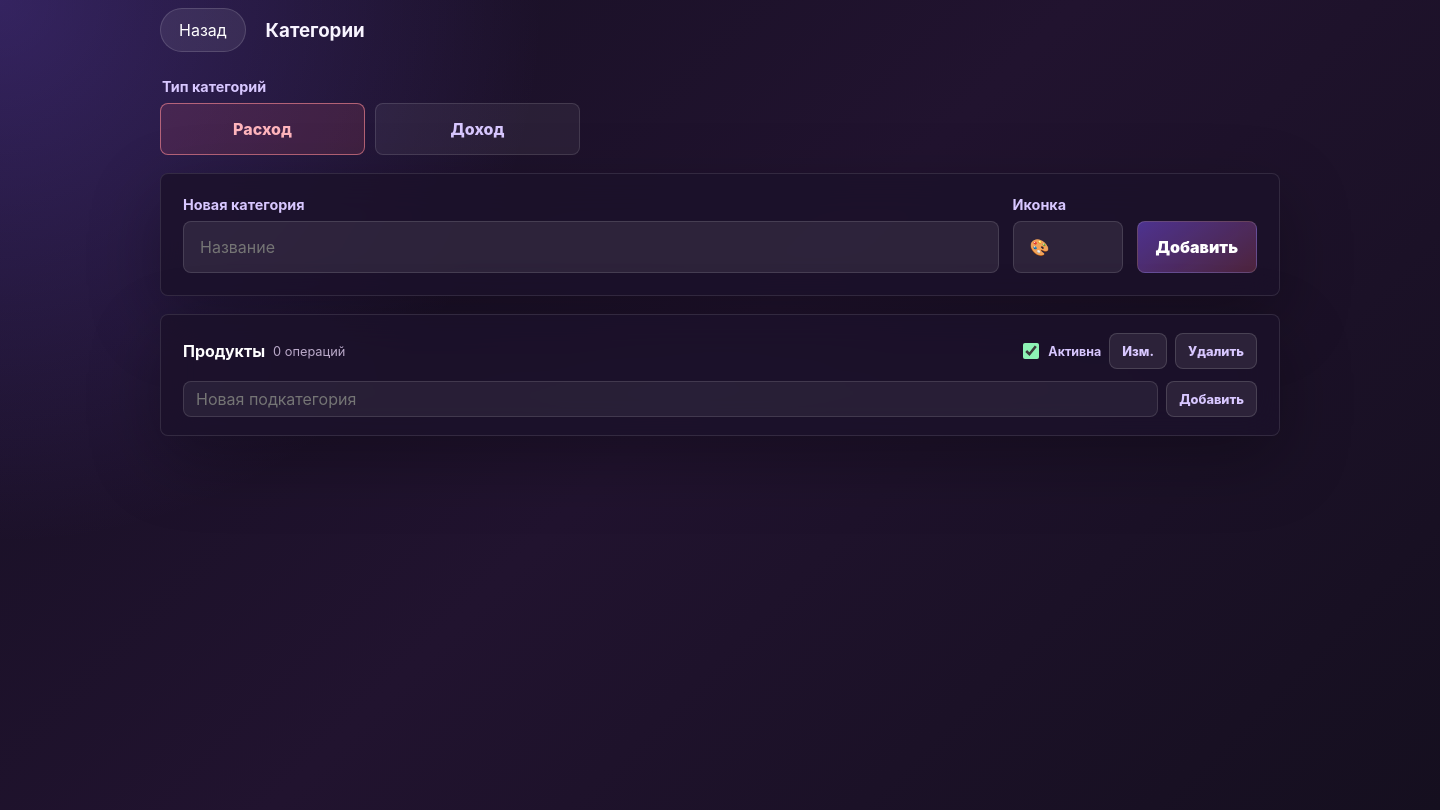
Test: CategoriesPage › adds a new category at the top and marks it for the appear animation
This screenshot has width=1440, height=810.
Step 1. Type "Новая" into the field with placeholder "Название" → (591, 247), box [183, 221, 998, 273]
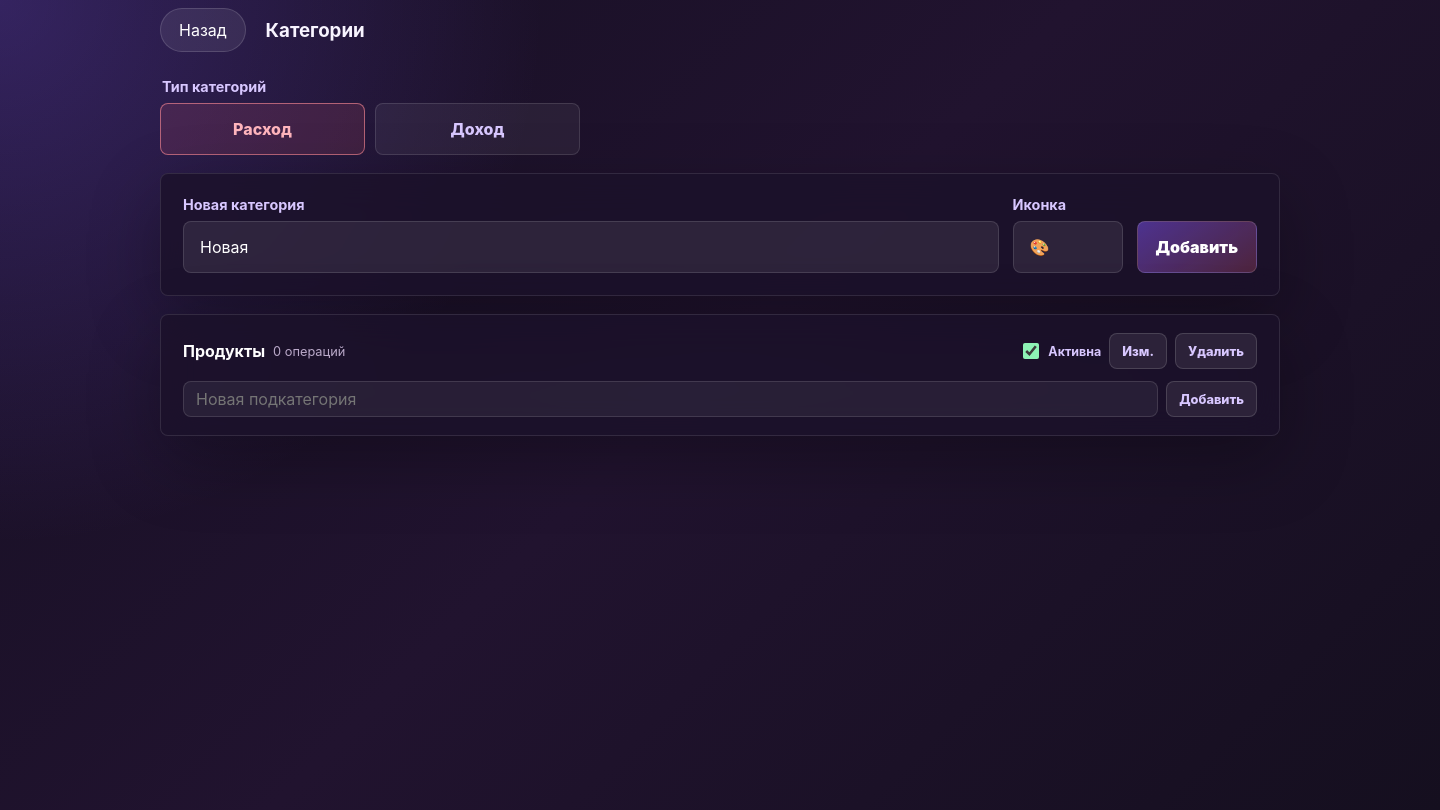
Step 2. Submit the form with class "category-create", box [160, 173, 1280, 296]
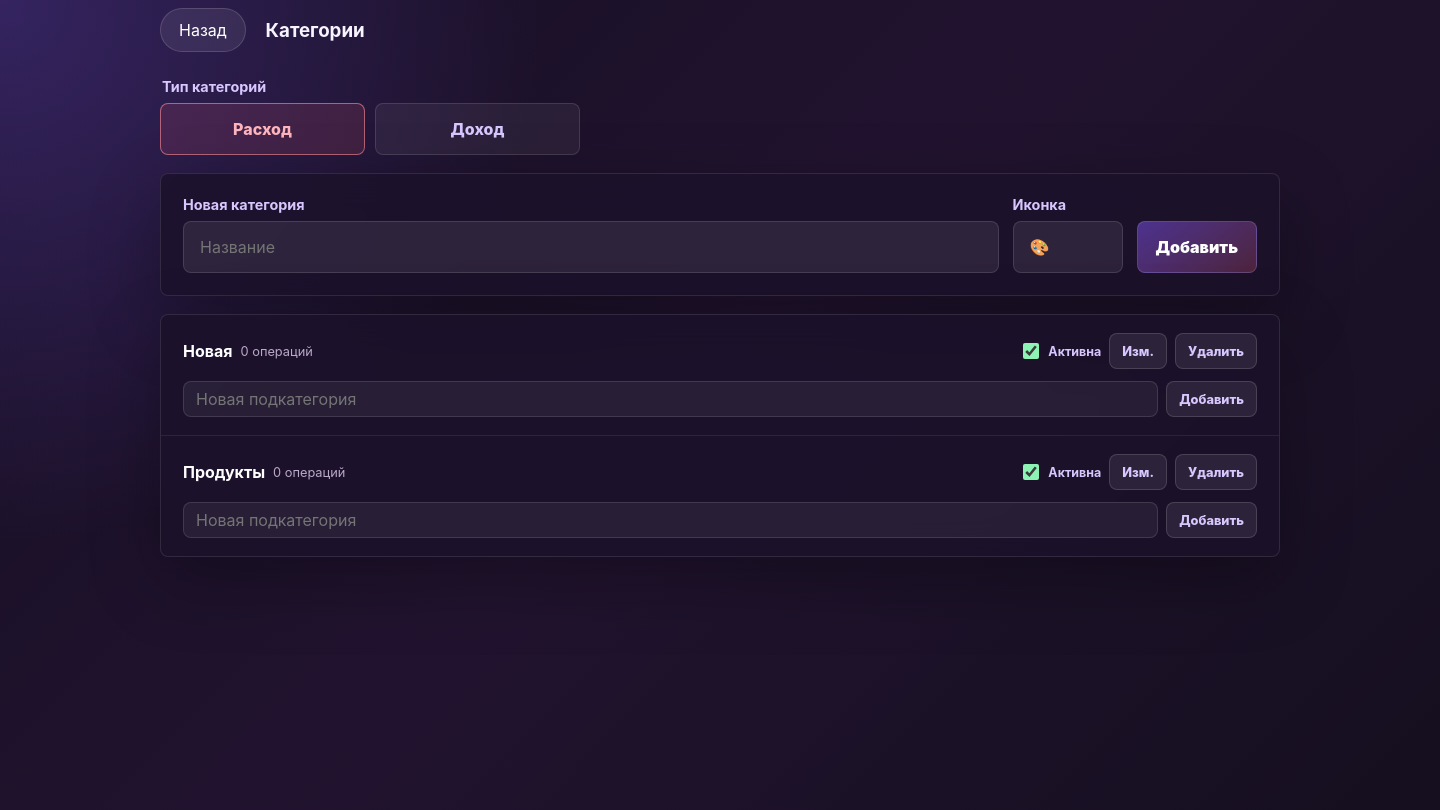
Check: the number of elements with class "category-manager__item" is 2, box [161, 315, 1279, 436]; [161, 436, 1279, 556]
Check: the element with class "category-manager__item" shows "Новая", box [183, 341, 232, 361]
